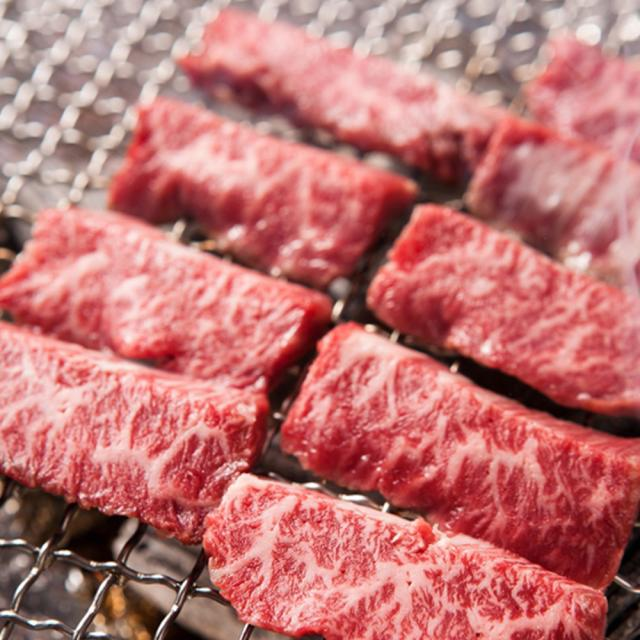beef: (237, 476, 562, 632), (330, 320, 615, 482), (15, 338, 254, 502)
